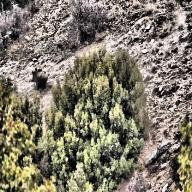boar: (29, 68, 56, 92)
